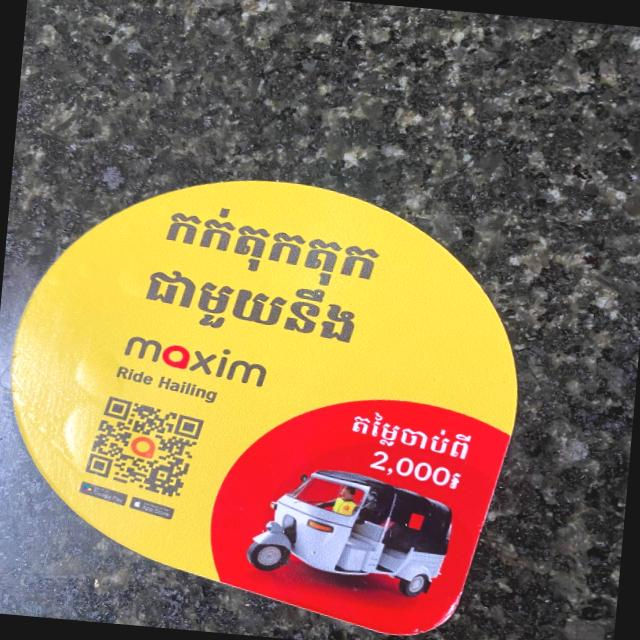633: (358, 443, 475, 498)
Yolov11kh: (129, 254, 363, 360), (156, 191, 388, 295), (337, 399, 482, 471)
